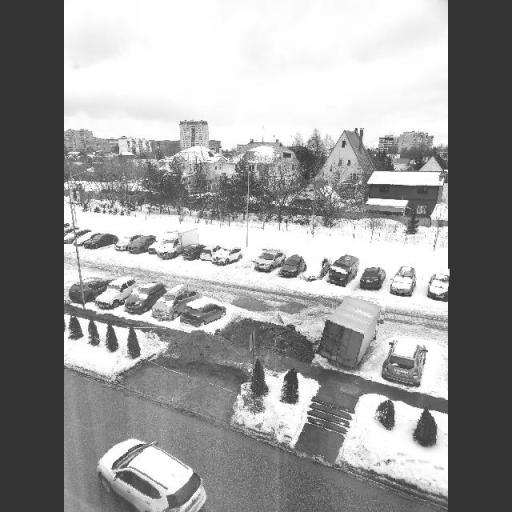busy: (101, 434, 203, 512), (314, 298, 384, 370), (382, 339, 428, 386), (92, 275, 140, 314), (180, 294, 228, 332), (152, 284, 192, 324), (126, 279, 166, 318), (326, 249, 360, 290), (300, 249, 332, 284), (390, 262, 418, 300), (254, 244, 285, 274), (154, 231, 184, 262), (82, 226, 118, 251), (358, 262, 386, 294), (426, 268, 449, 304), (212, 241, 242, 268), (280, 250, 306, 280), (114, 230, 142, 253), (130, 230, 156, 254), (182, 240, 202, 261), (198, 244, 216, 263)
free: (240, 256, 254, 278)
